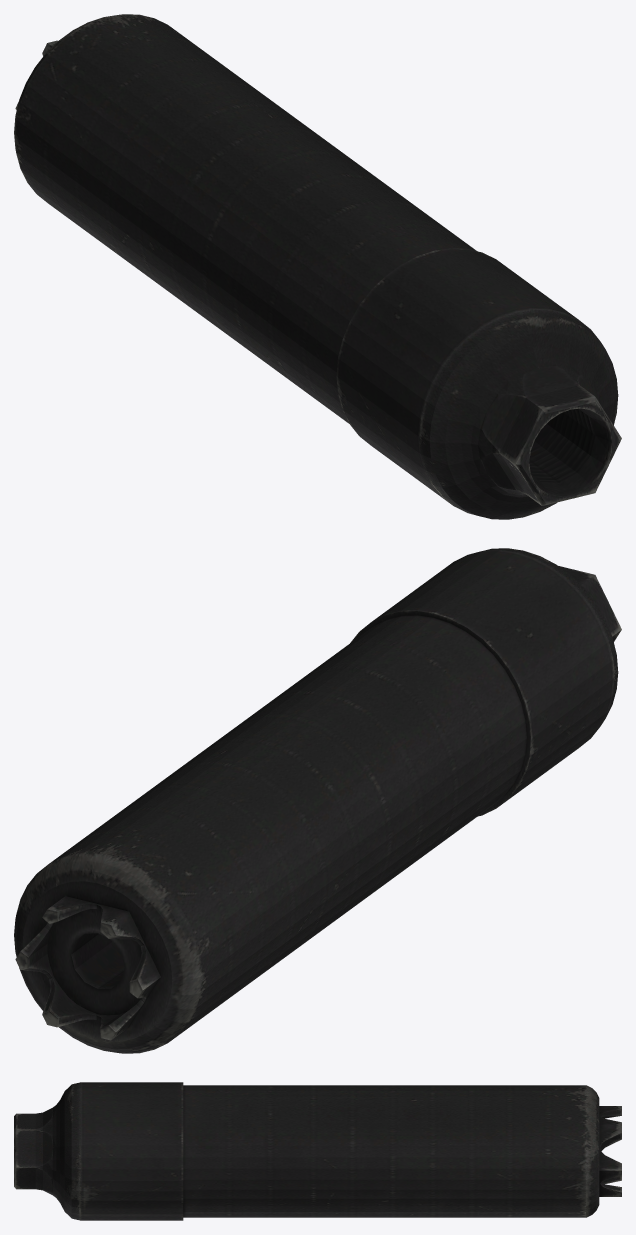
3 views of the same model, one above another, from view 1: azimuth 30°, elevation 25°; view 2: azimuth 150°, elevation 25°; view 3: azimuth 270°, elevation 25° (orthographic). The views are drawn at different scales.
Parts seen in each view (by area): view 1: TW_5fbe7618d6fa9c00c571bb6c_PZ_Import; view 2: TW_5fbe7618d6fa9c00c571bb6c_PZ_Import; view 3: TW_5fbe7618d6fa9c00c571bb6c_PZ_Import.
Part boxes in pixels (x1,y1,x2,y2): TW_5fbe7618d6fa9c00c571bb6c_PZ_Import: (14,14,621,519); TW_5fbe7618d6fa9c00c571bb6c_PZ_Import: (14,548,621,1053); TW_5fbe7618d6fa9c00c571bb6c_PZ_Import: (14,1082,621,1220).
Size of the model in its own units: 0.0234 by 0.1022 by 0.0234.
1 material, 1 textured.
